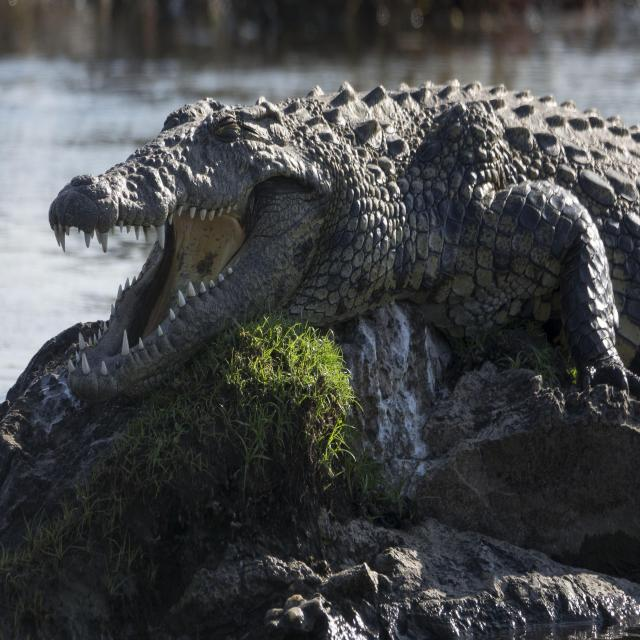crocodile: (28, 57, 640, 436)
